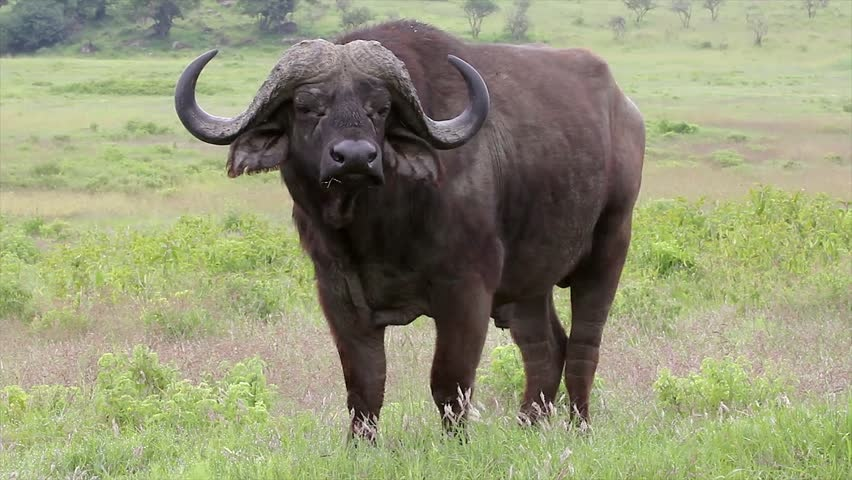buffalo: (172, 19, 644, 447)
